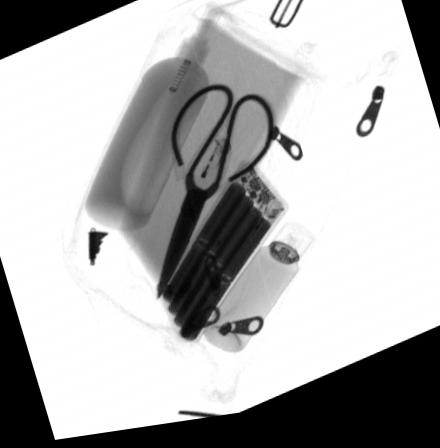Lighter: (187, 142, 235, 217)
Powerbank: (163, 163, 291, 351)
Scissors: (155, 89, 278, 304)
Sprayer: (201, 227, 315, 360)
